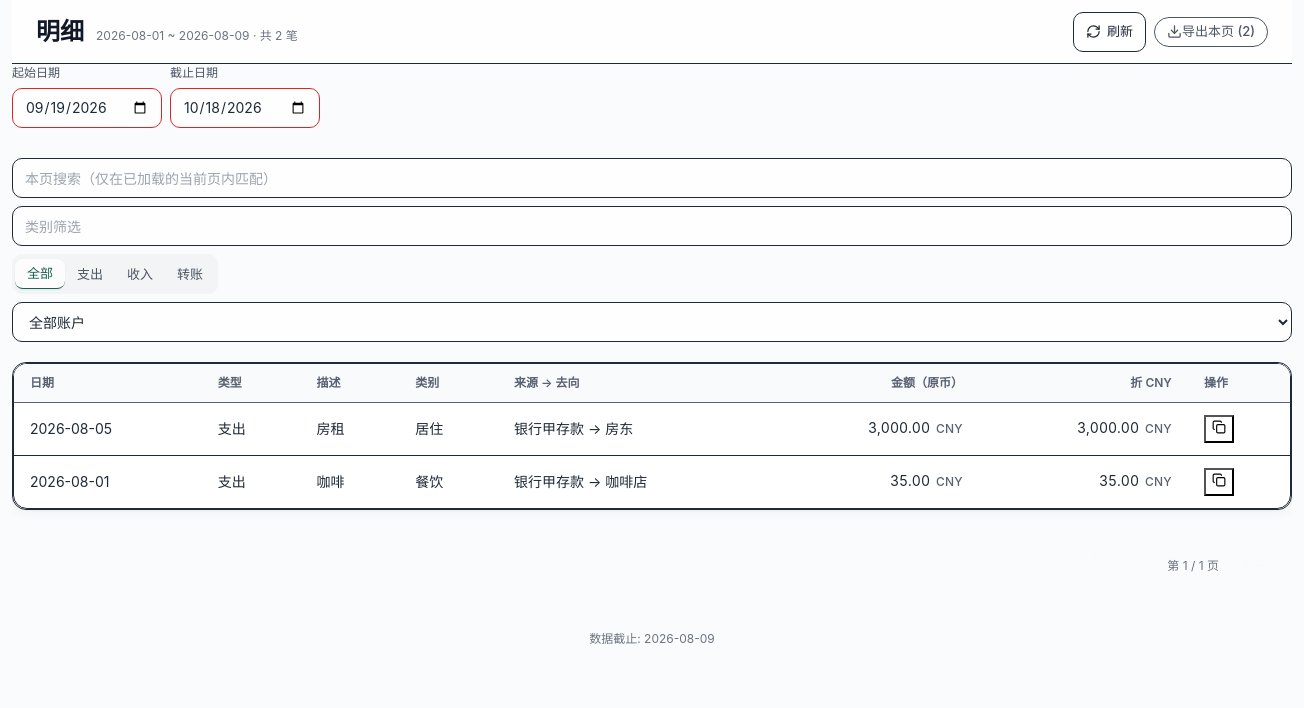
Test: TransactionsPage › 渲染交易表格并支持类型/类别筛选，URL 含正确参数
Expected: the table named "交易明细" is shown, left=14, top=364, right=1290, bottom=508
Expected: the text "咖啡" is shown, left=301, top=455, right=399, bottom=508
Click the button "支出" at (90, 274), box left=65, top=259, right=115, bottom=289
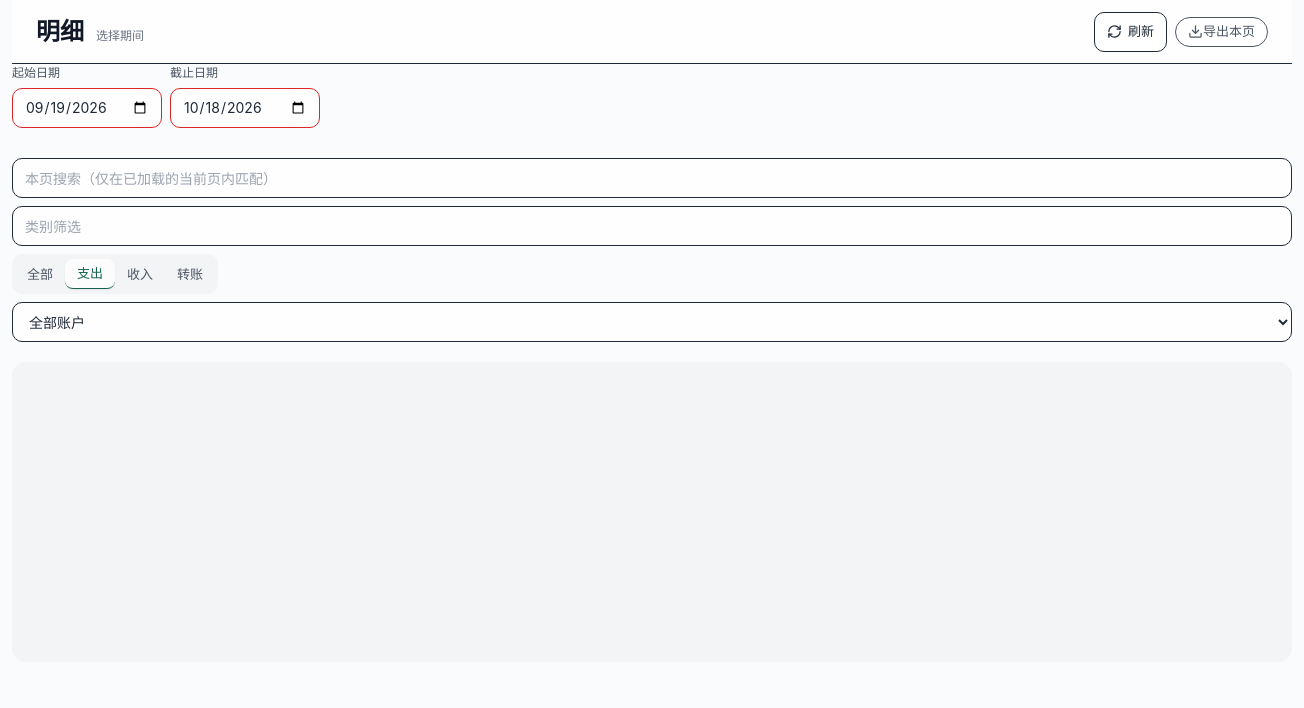
P1 修复：填写类别筛选后断言 category 参数
Type "餐饮" into the field labelled "类别筛选" at (652, 226), box left=12, top=206, right=1292, bottom=246
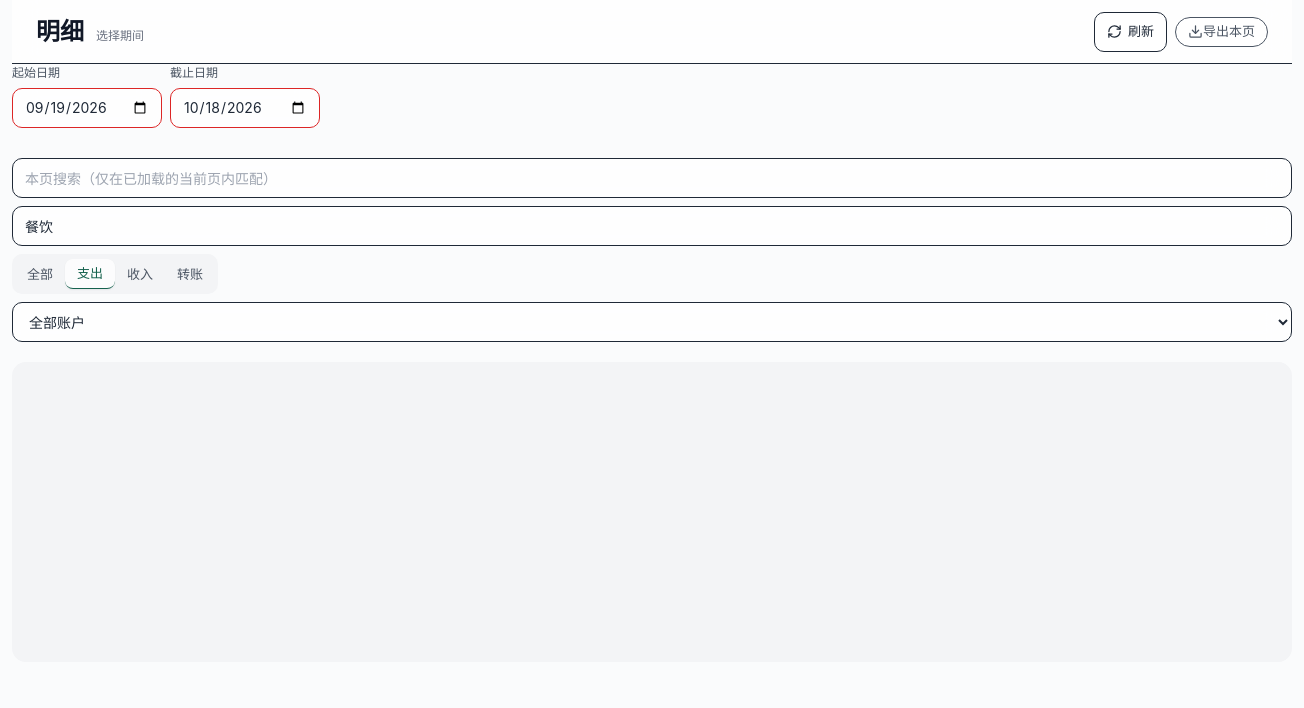
Type "咖啡" into the field labelled "本页搜索" at (652, 178), box left=12, top=158, right=1292, bottom=198
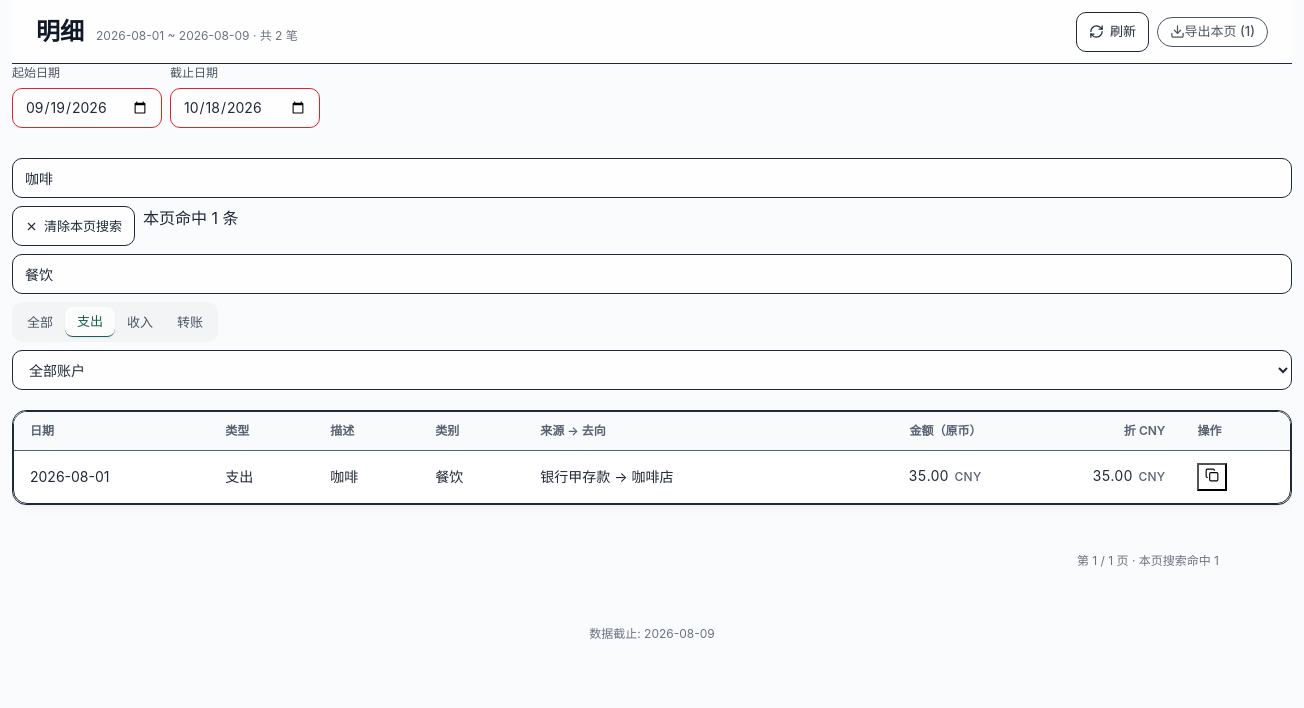
Expected: the text "房租" is not shown
Expected: the text "咖啡" is shown, left=314, top=450, right=419, bottom=502
